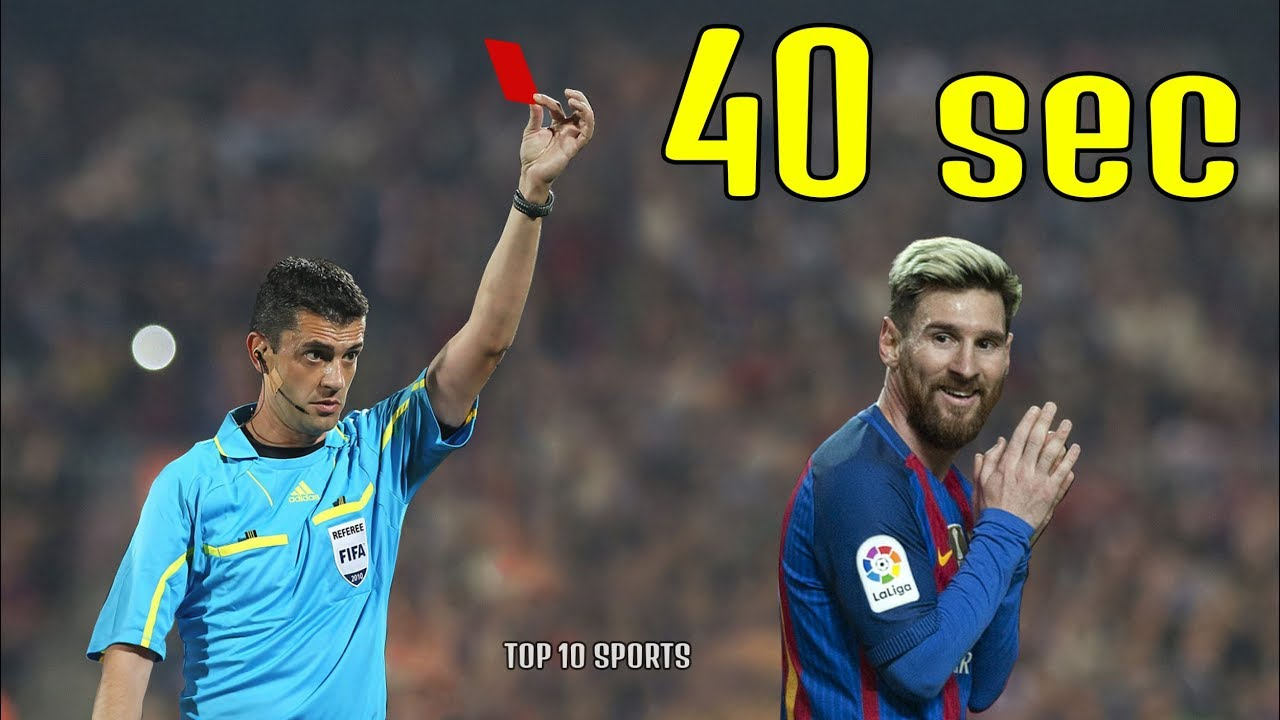red_card: (469, 21, 608, 190)
